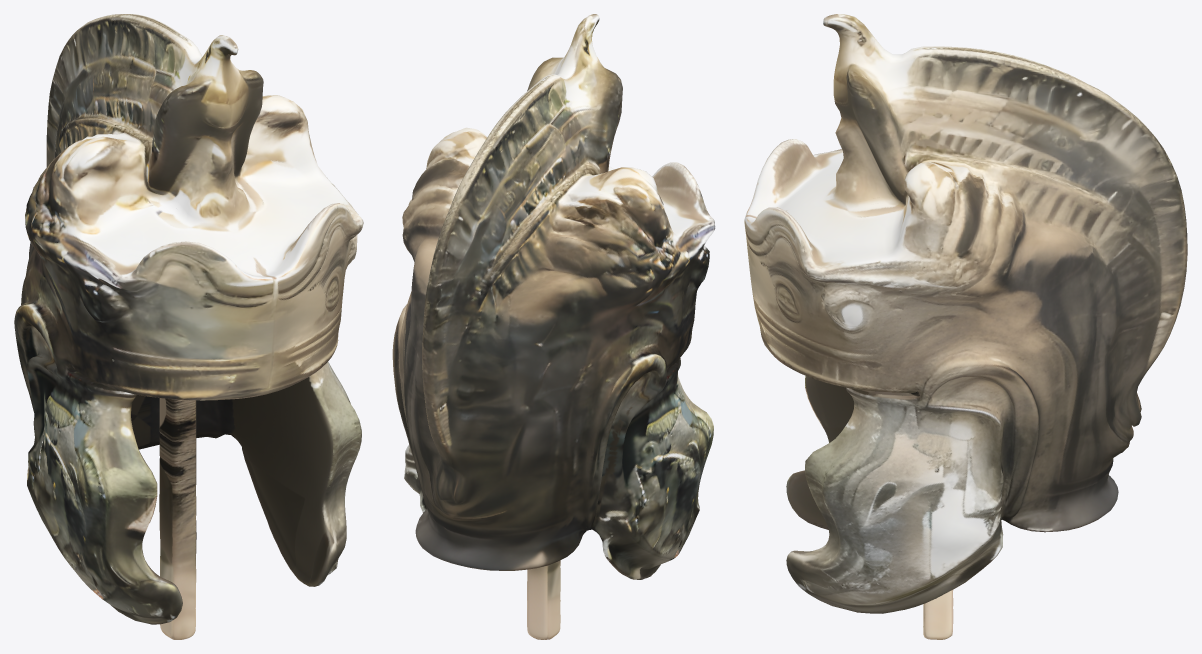
The model's file is base_basic_shaded.glb.
3 renders of one model, left to right at view 1: azimuth 30°, elevation 25°; view 2: azimuth 150°, elevation 25°; view 3: azimuth 270°, elevation 25°, orthographic. The views are drawn at different scales.
Parts seen in each view (by area): view 1: model; view 2: model; view 3: model.
Boxes of the visible parts, x1=… form: model: x1=14, y1=14, x2=363, y2=639; model: x1=392, y1=14, x2=715, y2=639; model: x1=744, y1=14, x2=1187, y2=639.
Bounding box in the file's own units: 0.8857 × 1.9 × 1.23.
Materials: 1 (1 with a texture image).
